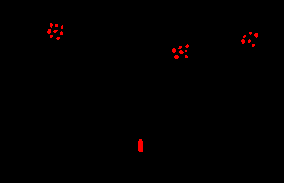Target: (138, 139, 143, 152), (47, 29, 51, 34), (254, 33, 258, 38), (241, 39, 245, 44), (172, 48, 176, 53), (179, 50, 184, 54), (174, 55, 179, 59), (185, 44, 189, 48), (50, 23, 53, 28), (53, 30, 58, 33), (60, 31, 63, 35), (56, 37, 60, 40), (248, 39, 251, 43), (178, 46, 182, 49), (55, 24, 58, 27), (249, 32, 252, 35), (50, 35, 53, 38), (243, 35, 246, 38), (252, 44, 255, 47), (185, 55, 188, 58), (61, 25, 63, 29), (185, 50, 187, 52)
